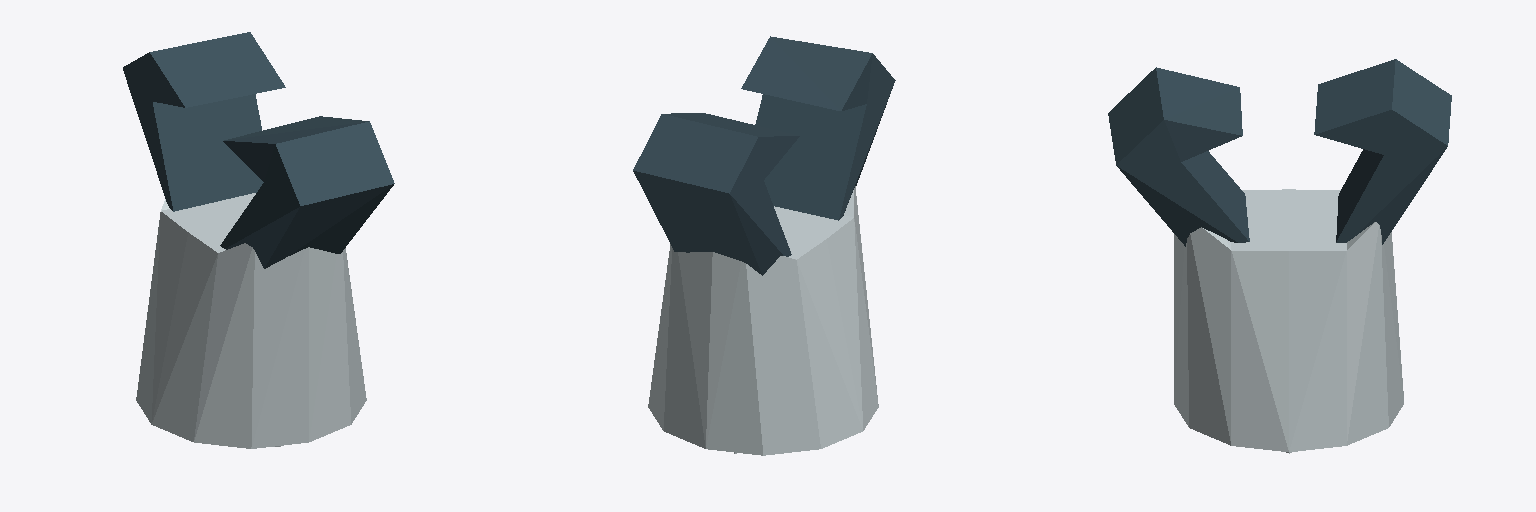
3 renders of one model, left to right at view 1: azimuth 30°, elevation 25°; view 2: azimuth 150°, elevation 25°; view 3: azimuth 270°, elevation 25°, orthographic.
Visible parts, largest first — view 1: group[number redacted], group[number redacted], group[number redacted]; view 2: group[number redacted], group[number redacted], group[number redacted]; view 3: group[number redacted], group[number redacted], group[number redacted].
Boxes of the visible parts, <box> form: group[number redacted]: <box>136,193,366,448</box>; group[number redacted]: <box>123,32,285,211</box>; group[number redacted]: <box>220,116,394,268</box>; group[number redacted]: <box>648,186,878,455</box>; group[number redacted]: <box>741,36,895,220</box>; group[number redacted]: <box>633,113,799,275</box>; group[number redacted]: <box>1174,189,1403,453</box>; group[number redacted]: <box>1108,67,1249,246</box>; group[number redacted]: <box>1314,59,1451,244</box>.
Size of the model in its own units: 0.1631 by 0.2704 by 0.2431.